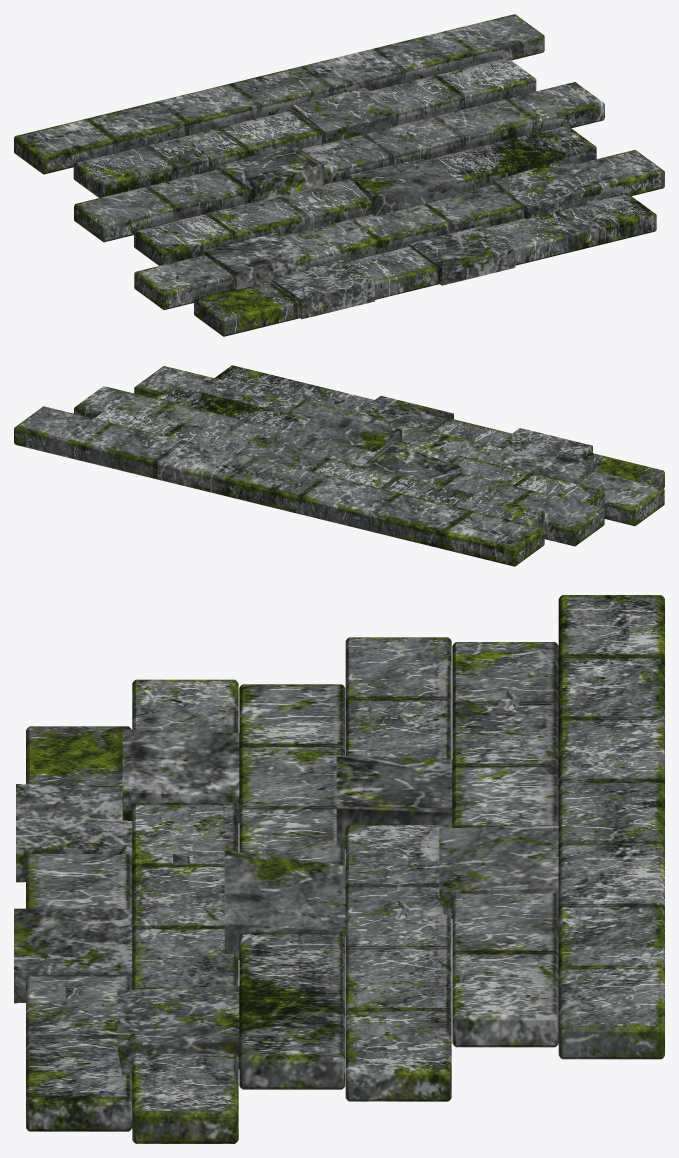
File: stair_stone.glb
3 renders of one model, top to bottom at view 1: azimuth 30°, elevation 25°; view 2: azimuth 150°, elevation 25°; view 3: azimuth 270°, elevation 25°, orthographic. The views are drawn at different scales.
Visible parts, largest first — view 1: Object_2; view 2: Object_2; view 3: Object_2.
Part boxes in pixels (box(x1,y1,x2,y2)): Object_2: box(14, 14, 664, 336); Object_2: box(14, 365, 664, 566); Object_2: box(14, 595, 664, 1143).
Bounding box in the file's own units: 1021 × 151 × 646.
Materials: 1 (1 with a texture image).
